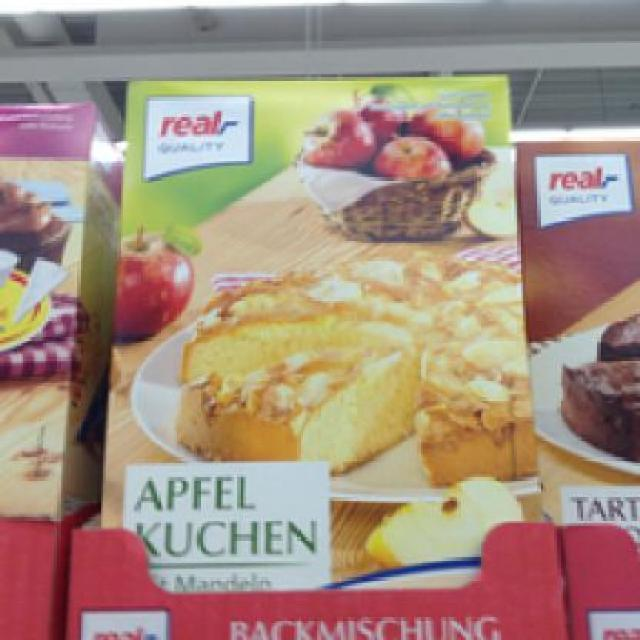Cake: (97, 74, 537, 580)
